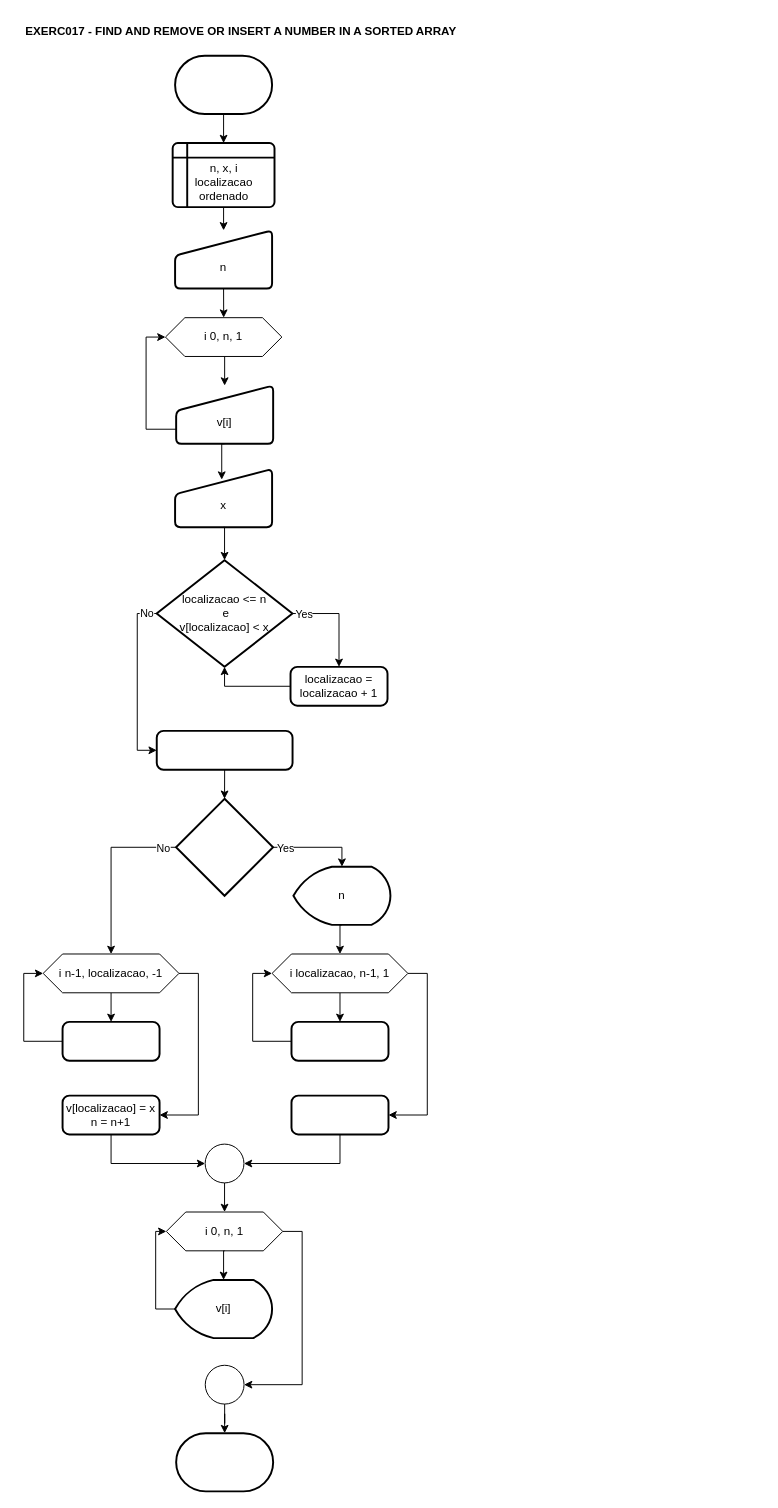
Image size: 778x1508. Some labels were removed from this diagram. The shapes that lost their labels are listed below. From the top down, each one's box as (x1, y1, x2, y2) in pixels, then its label:
(174, 54, 273, 114): Start
(155, 729, 293, 770): encontrado = localizacao <= n e v[localizacao] == x
(175, 797, 274, 896): encontrado
(61, 1020, 160, 1061): v[i+1] = v[i]
(290, 1020, 389, 1061): v[i] = v[i+1]
(290, 1094, 389, 1135): n = n - 1
(175, 1432, 274, 1492): Stop
